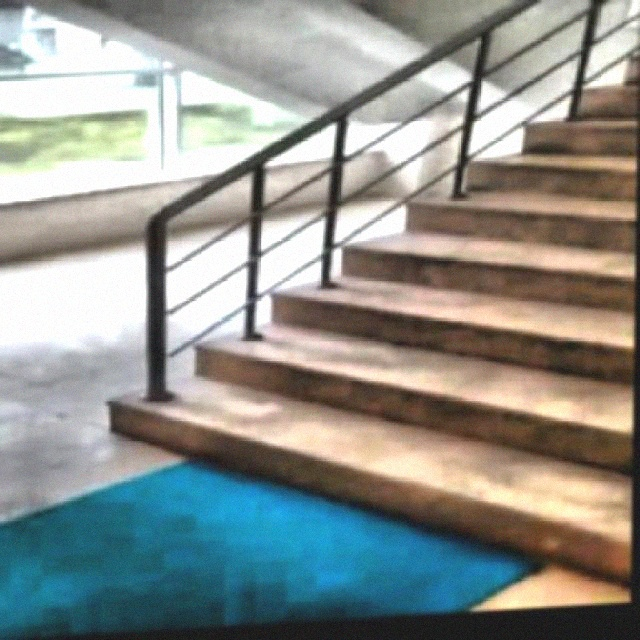stair: (60, 30, 637, 635)
